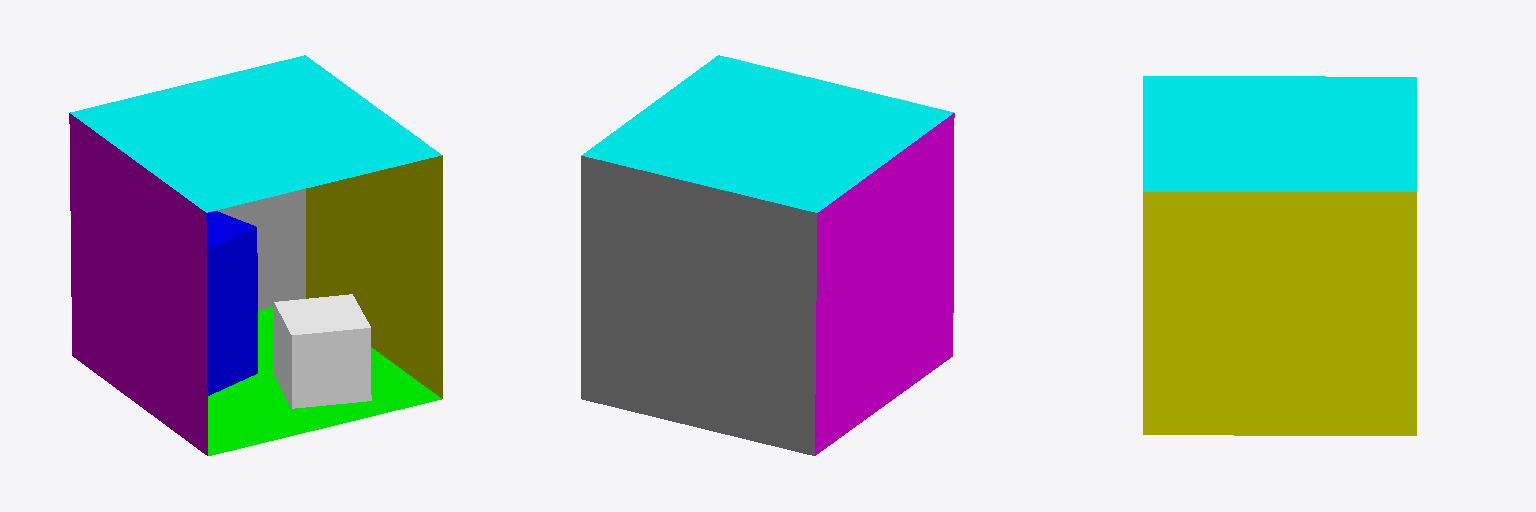
File: cornell-box_mirror.obj
3 renders of one model, left to right at view 1: azimuth 30°, elevation 25°; view 2: azimuth 150°, elevation 25°; view 3: azimuth 270°, elevation 25°, orthographic.
Parts seen in each view (by area): view 1: left_wall, ceiling, right_wall, floor, short_box, tall_box, back_wall; view 2: back_wall, left_wall, ceiling; view 3: right_wall, ceiling.
Boxes of the visible parts, x1,y1,x2,y2 form: left_wall: [69, 113, 207, 455]; ceiling: [70, 55, 441, 212]; right_wall: [306, 155, 442, 398]; floor: [208, 307, 441, 455]; short_box: [274, 294, 371, 408]; tall_box: [206, 211, 257, 395]; back_wall: [216, 189, 305, 310]; back_wall: [581, 156, 816, 455]; left_wall: [815, 113, 954, 455]; ceiling: [581, 55, 953, 212]; right_wall: [1143, 192, 1416, 435]; ceiling: [1143, 76, 1416, 191].
Size of the model in its own units: 5.56 by 5.49 by 5.6.